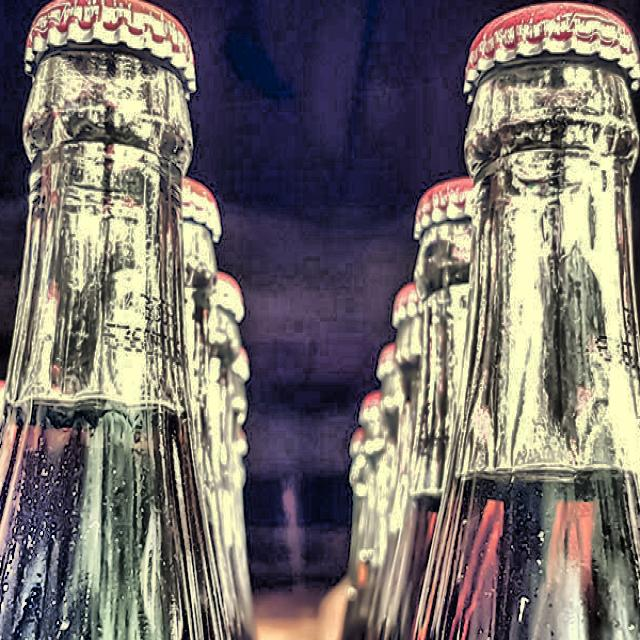metal: (468, 0, 639, 65), (22, 0, 193, 60)
